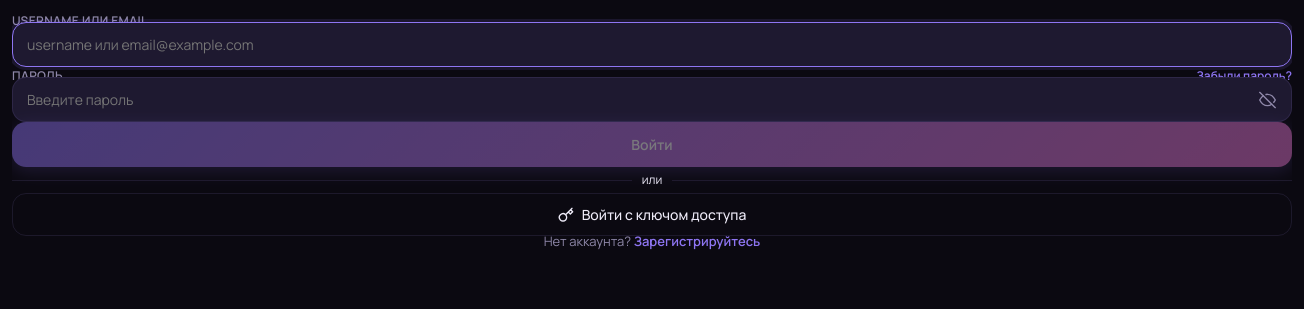
Test: LoginForm — passkey sign-in failures are explained, not swallowed › a server error shows the server message
Step 1. Click the button "Войти с ключом доступа" → (652, 214), box [12,193,1292,236]
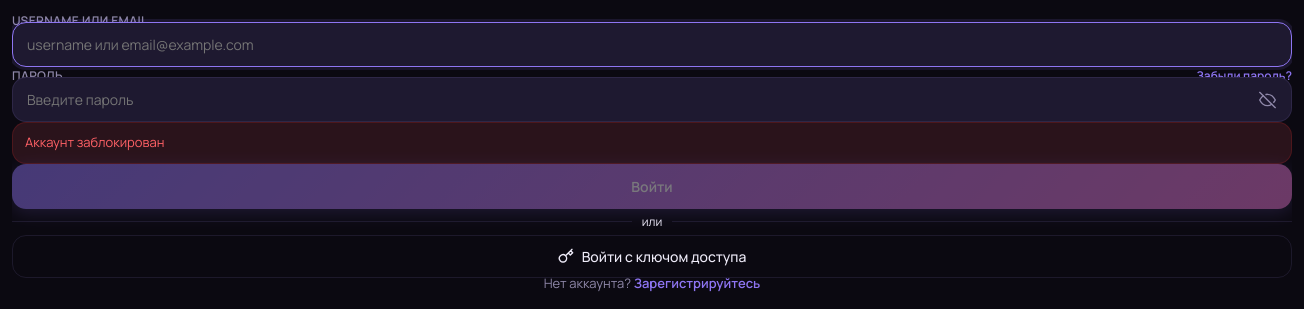
Check: the text "Аккаунт заблокирован" is shown, box [12,122,1292,164]
